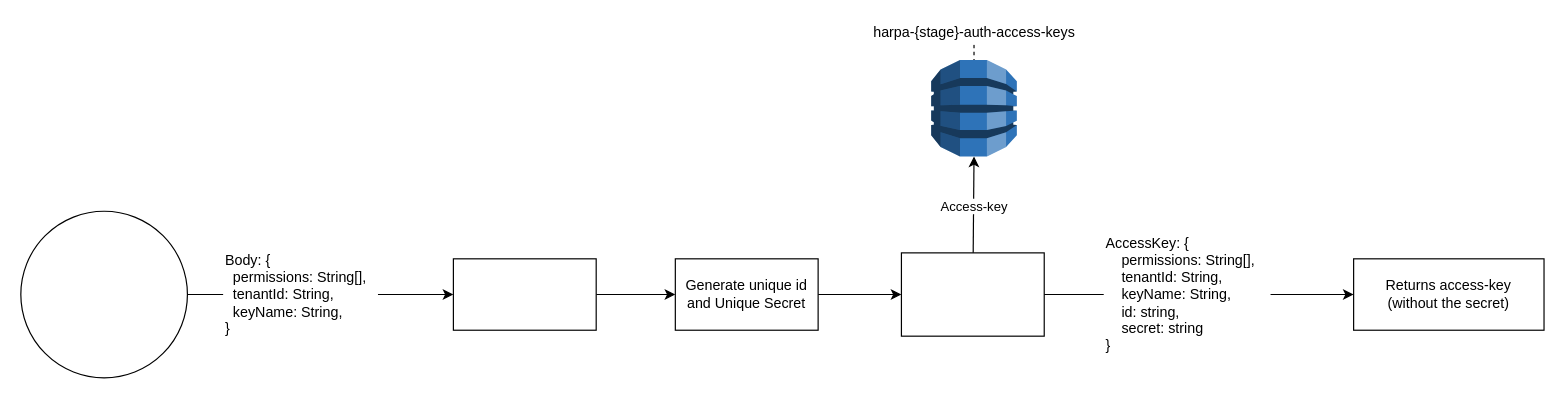
The diagram is 1565 pixels wide and 399 high, and some of its shapes have lost their labels. Here are the shapes that lost their labels. From the top down, the box of each, then its label:
(20, 210, 187, 378): POST /access-keys
(452, 258, 596, 330): Extract data from request body
(900, 252, 1044, 336): Save access-key on dynamo
